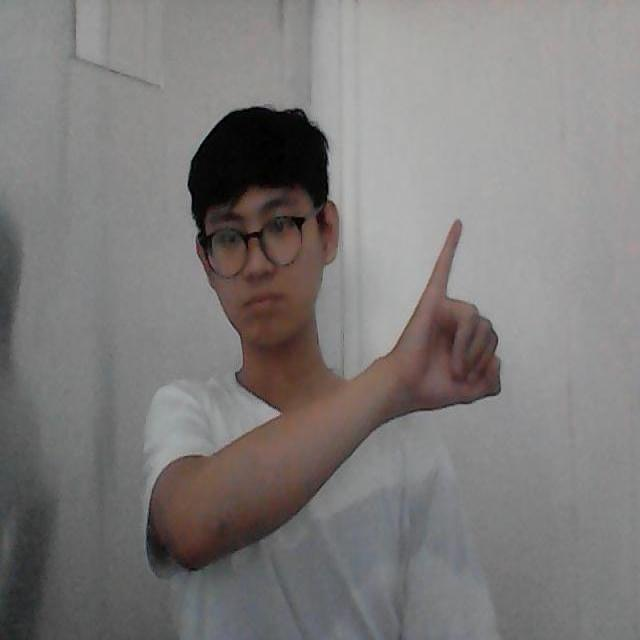I: (399, 212, 508, 413)
